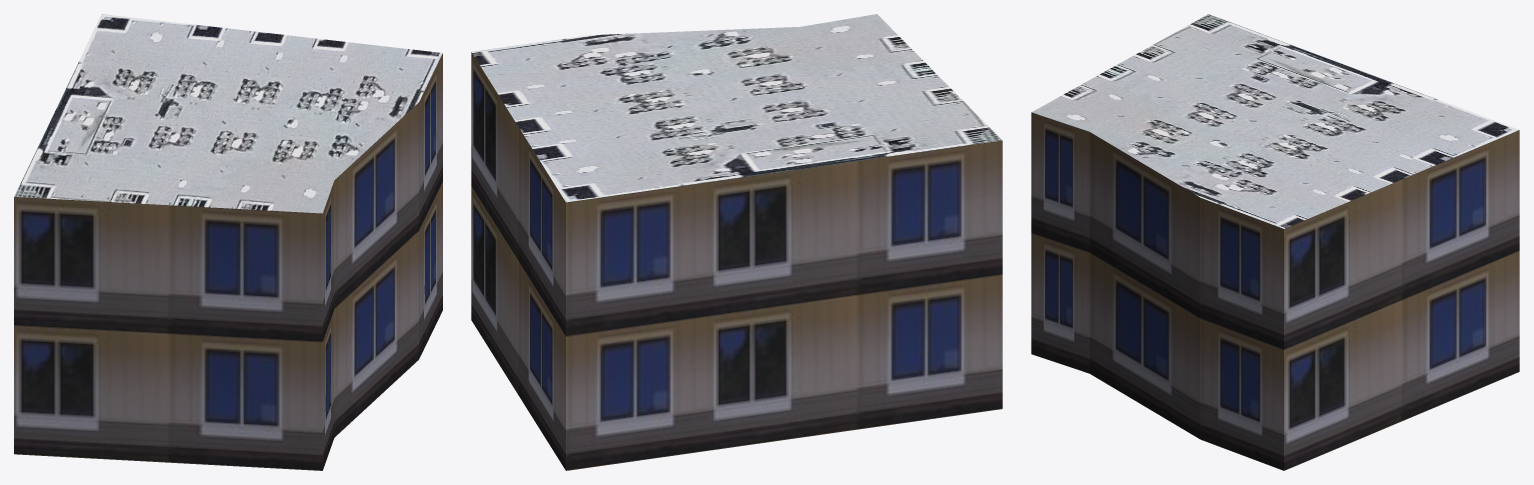
File: ResTex__3065.fbx
3 views of the same model, side by side, from view 1: azimuth 30°, elevation 25°; view 2: azimuth 150°, elevation 25°; view 3: azimuth 270°, elevation 25° (orthographic). The views are drawn at different scales.
Parts seen in each view (by area): view 1: CityEngineMaterial_5_m, CityEngineMaterial_m; view 2: CityEngineMaterial_5_m, CityEngineMaterial_m; view 3: CityEngineMaterial_5_m, CityEngineMaterial_m.
Boxes of the visible parts, x1,y1,x2,y2 form: CityEngineMaterial_5_m: (14, 53, 442, 470); CityEngineMaterial_m: (14, 14, 442, 213); CityEngineMaterial_5_m: (471, 52, 1002, 470); CityEngineMaterial_m: (471, 14, 1002, 202); CityEngineMaterial_5_m: (1031, 112, 1519, 470); CityEngineMaterial_m: (1032, 14, 1518, 228).
Size of the model in its own units: 11.44 by 6 by 10.97.
2 materials, 2 textured.
